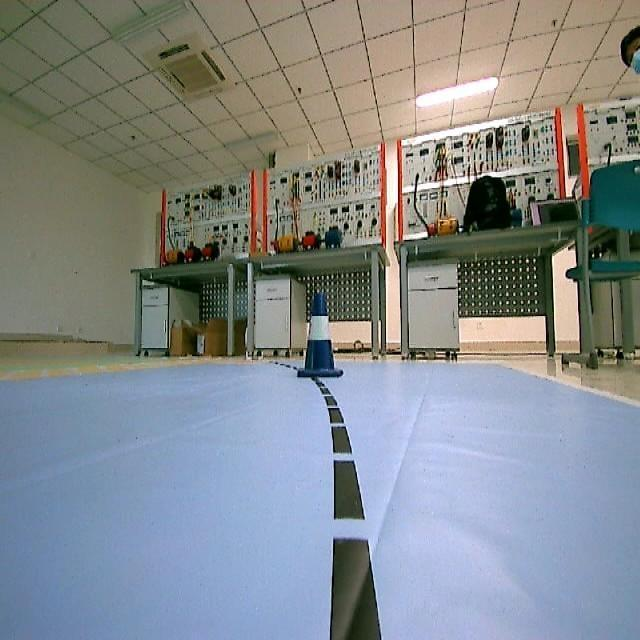obstacle: (290, 290, 352, 382)
